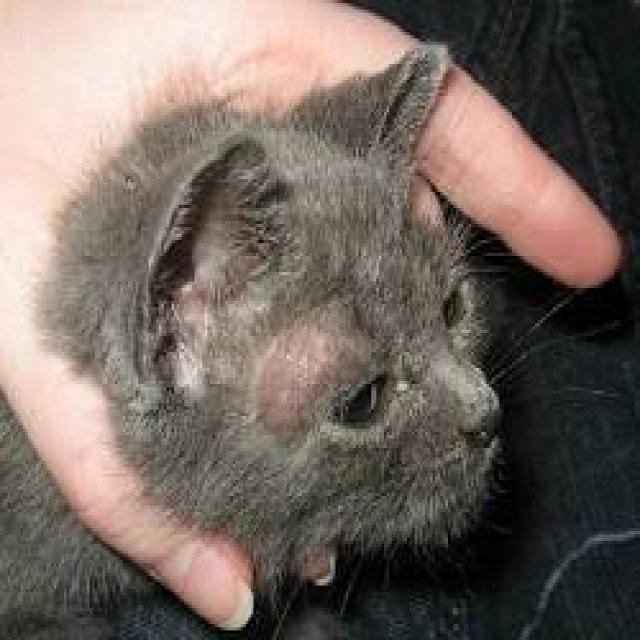cat-hairloss: (267, 331, 314, 433), (171, 296, 208, 392)
